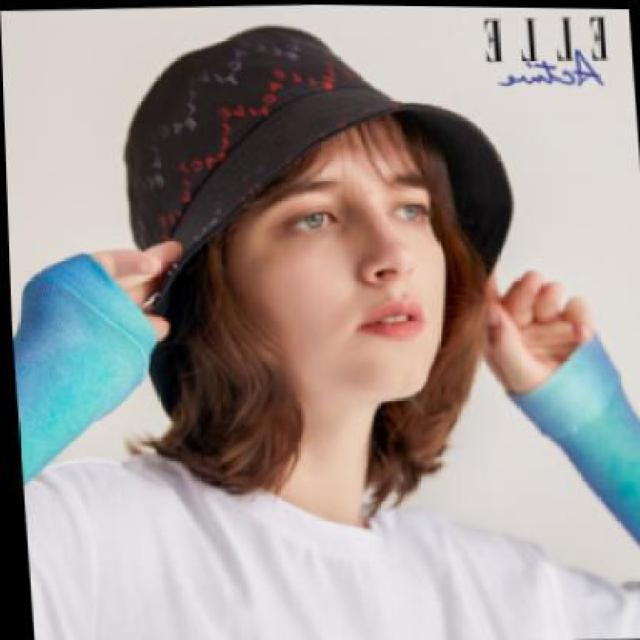hat: (120, 15, 518, 311)
